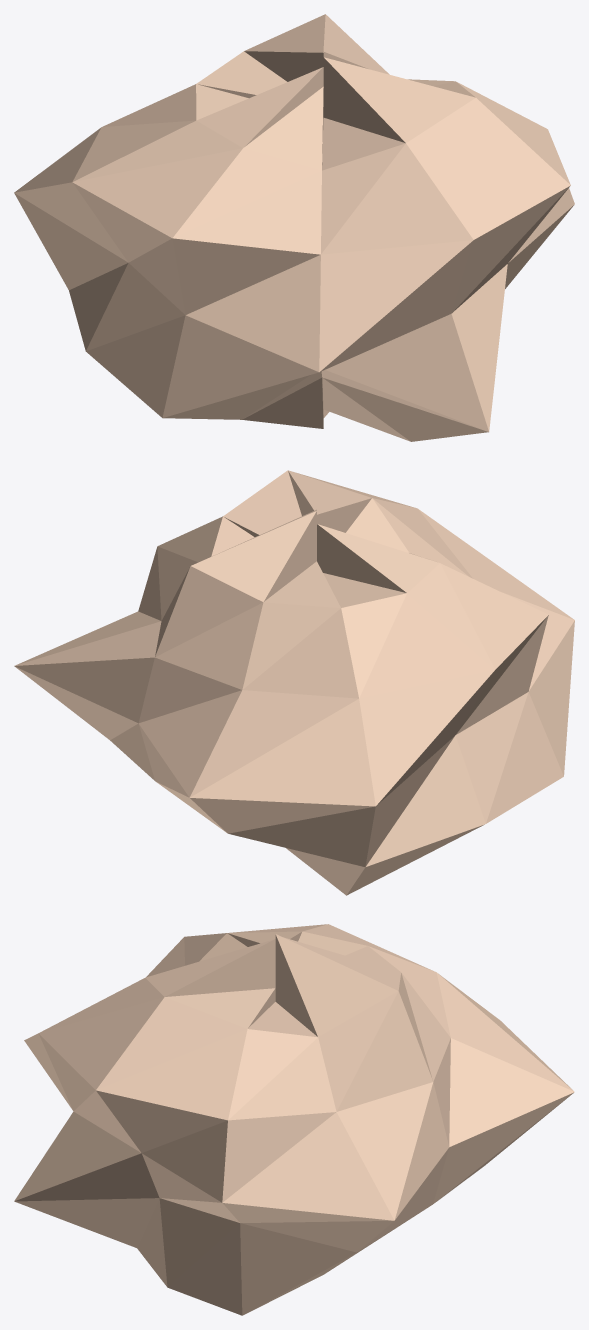
File: rock_081.obj
The picture shows the model from 3 angles, top to bottom: view 1: azimuth 30°, elevation 25°; view 2: azimuth 150°, elevation 25°; view 3: azimuth 270°, elevation 25°; orthographic projection. The views are drawn at different scales.
Bounding box in the file's own units: 1.04 × 0.7714 × 1.14.
